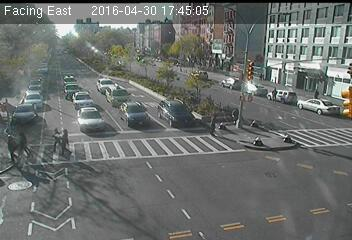neg: (106, 149, 126, 176), (268, 14, 288, 40), (311, 114, 330, 139), (130, 93, 148, 117), (27, 65, 45, 89), (198, 15, 216, 39), (302, 23, 320, 47), (237, 19, 254, 42), (259, 122, 276, 144), (83, 195, 100, 217), (253, 161, 268, 182), (155, 191, 170, 211), (169, 49, 184, 68), (209, 54, 223, 73), (45, 102, 59, 121), (292, 124, 306, 142), (321, 154, 335, 172), (50, 46, 63, 63), (207, 187, 220, 204), (86, 77, 98, 93), (142, 48, 154, 64), (156, 148, 168, 164), (294, 168, 306, 184), (156, 100, 167, 115), (53, 190, 64, 205), (88, 107, 99, 122), (292, 101, 303, 115), (77, 39, 87, 53), (272, 55, 282, 68), (112, 61, 121, 73), (204, 151, 212, 162)
pos: (52, 125, 76, 156), (11, 130, 35, 161), (44, 124, 66, 153), (205, 113, 223, 137), (268, 85, 279, 100), (313, 88, 323, 101)
